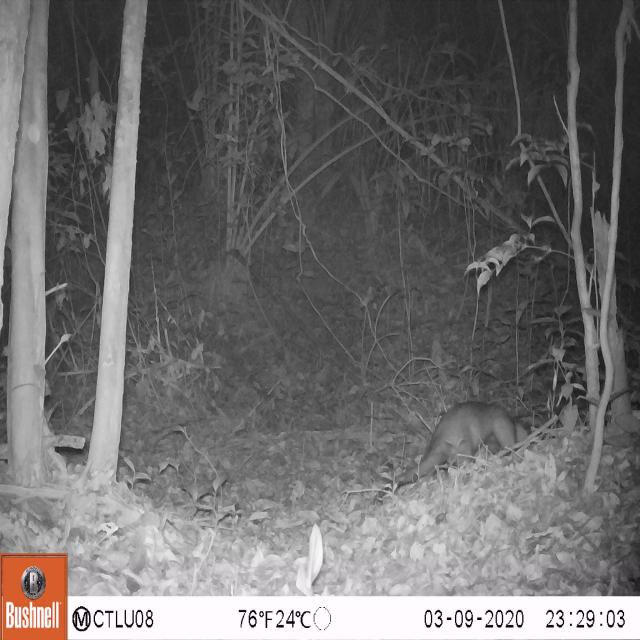Southern Tamandua: (379, 388, 541, 491)
